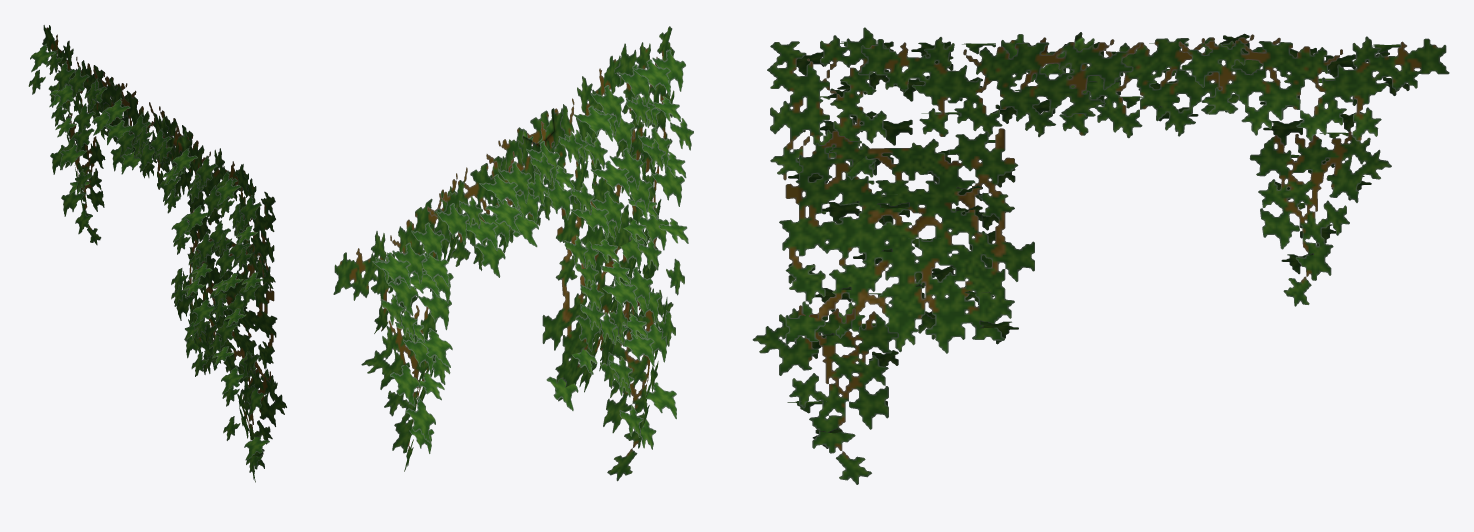
Rendered from IvyCluster_1.fbx.
The picture shows the model from 3 angles, left to right: view 1: azimuth 30°, elevation 25°; view 2: azimuth 150°, elevation 25°; view 3: azimuth 270°, elevation 25°; orthographic projection. The views are drawn at different scales.
Parts seen in each view (by area): view 1: Plane.005; view 2: Plane.005; view 3: Plane.005.
Boxes of the visible parts, <box> form: Plane.005: <box>28,25,286,482</box>; Plane.005: <box>333,26,693,481</box>; Plane.005: <box>752,27,1449,484</box>.
Size of the model in its own units: 90.12 by 508 by 670.
